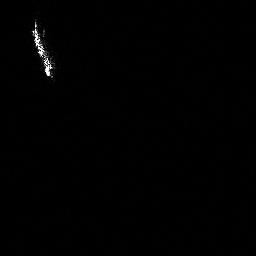ship: (29, 16, 59, 81)
